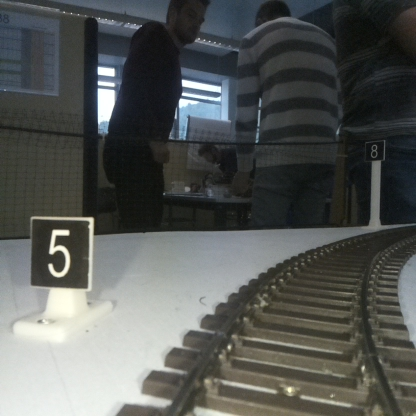black-info-8: (366, 140, 384, 229)
black-stop-5: (31, 219, 91, 333)
